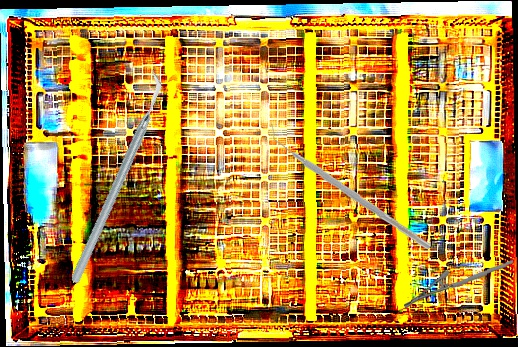Chopper: (4, 67, 228, 287), (265, 122, 437, 250)
Needle Holder: (401, 260, 516, 309)
